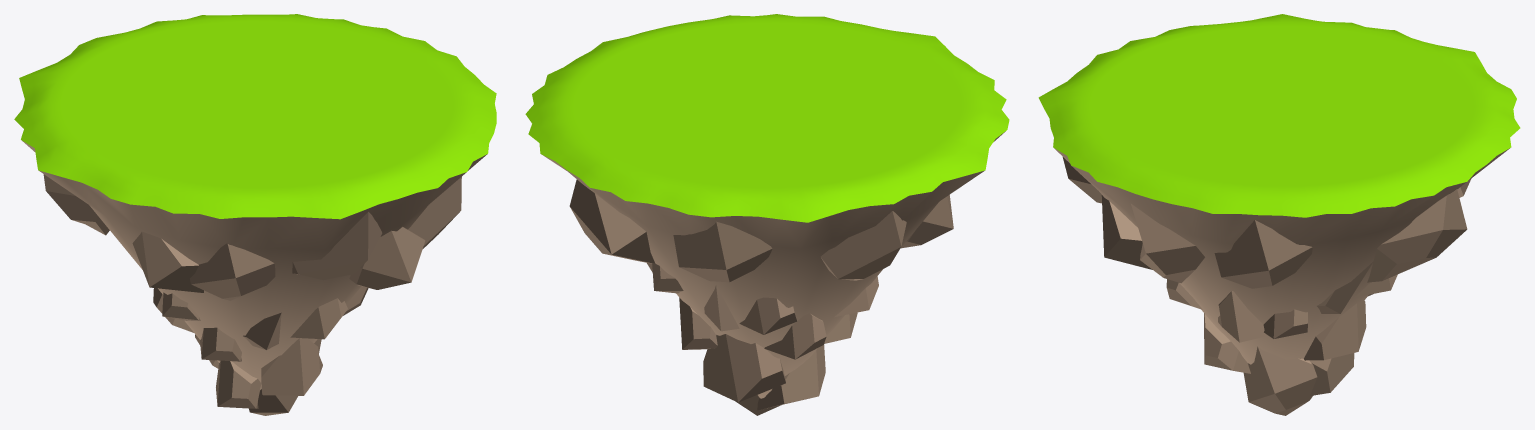
Rendered from FloatingIsland_01A.fbx.
3 views of the same model, side by side, from view 1: azimuth 30°, elevation 25°; view 2: azimuth 150°, elevation 25°; view 3: azimuth 270°, elevation 25° (orthographic). The views are drawn at different scales.
Parts seen in each view (by area): view 1: FloatingIsland_01A; view 2: FloatingIsland_01A; view 3: FloatingIsland_01A.
Boxes of the visible parts, x1,y1,x2,y2 form: FloatingIsland_01A: (14, 14, 496, 415); FloatingIsland_01A: (525, 14, 1009, 415); FloatingIsland_01A: (1038, 14, 1520, 415).
Bounding box in the file's own units: 15034 × 10495 × 15030.
